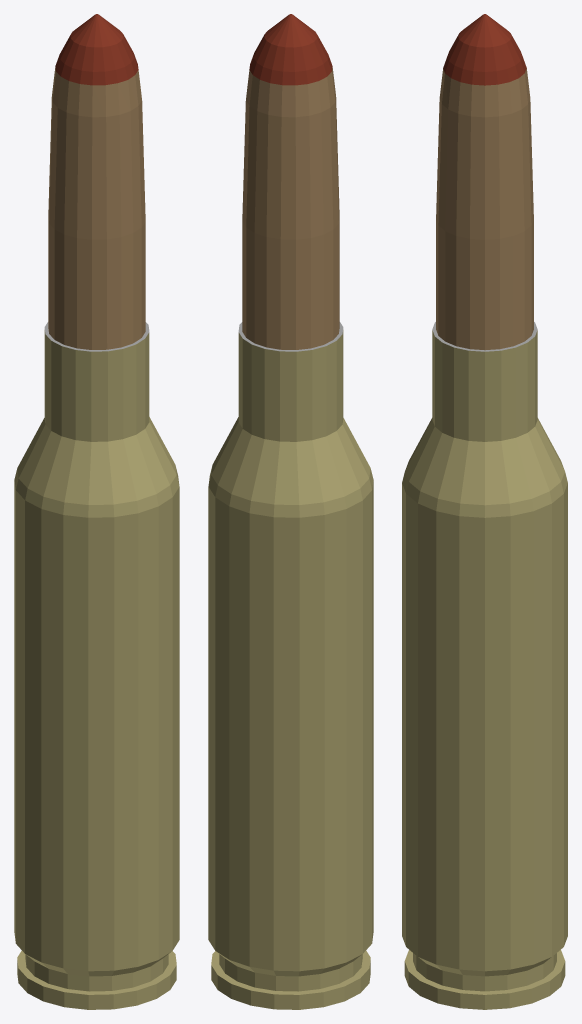
Rendered from High_Caliber_Bullet.fbx.
3 views of the same model, side by side, from view 1: azimuth 30°, elevation 25°; view 2: azimuth 150°, elevation 25°; view 3: azimuth 270°, elevation 25° (orthographic).
Parts seen in each view (by area): view 1: High_Caliber_Bullet; view 2: High_Caliber_Bullet; view 3: High_Caliber_Bullet.
Boxes of the visible parts, <box> form: High_Caliber_Bullet: <box>14,14,179,1009</box>; High_Caliber_Bullet: <box>208,14,373,1009</box>; High_Caliber_Bullet: <box>402,14,567,1009</box>.
Size of the model in its own units: 1 by 6.39 by 1.
